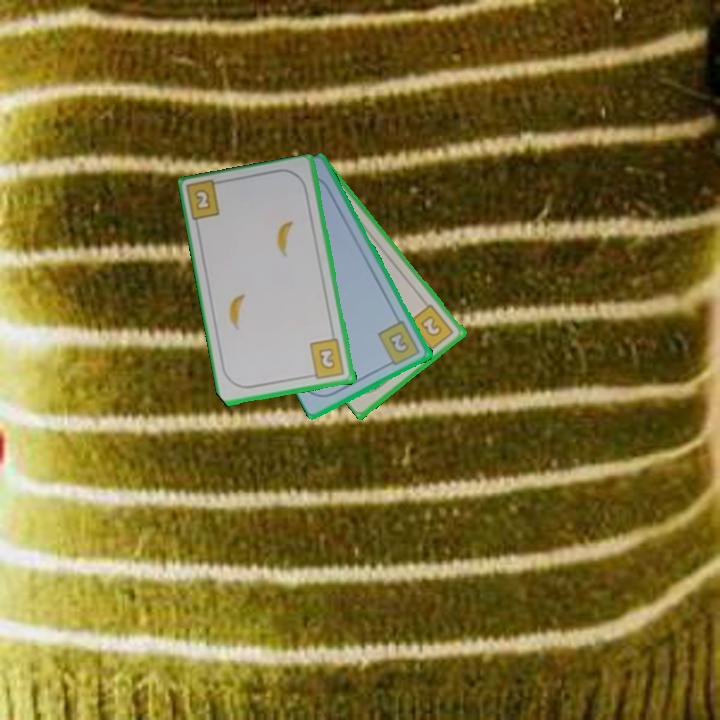2b: (406, 301, 457, 355), (375, 318, 423, 369), (185, 178, 228, 225), (306, 336, 348, 382)
